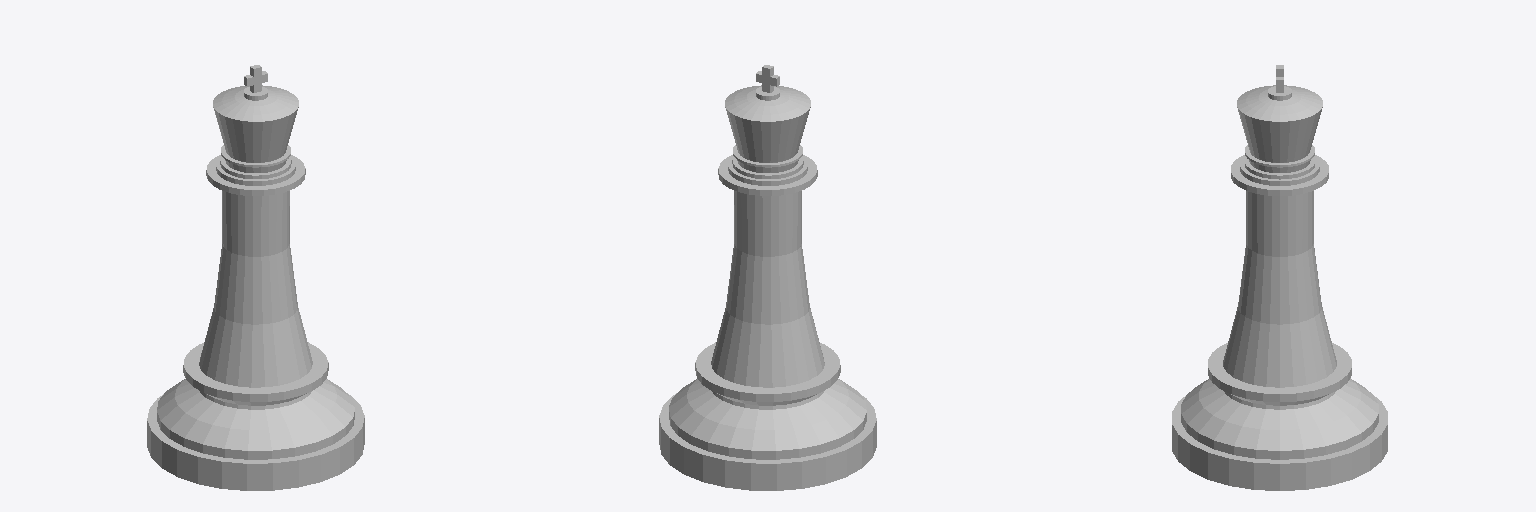
The model's file is king_black.obj.
3 views of the same model, side by side, from view 1: azimuth 30°, elevation 25°; view 2: azimuth 150°, elevation 25°; view 3: azimuth 270°, elevation 25° (orthographic).
Parts seen in each view (by area): view 1: king_black_uploads_files_[number redacted]_Chess+Set.002; view 2: king_black_uploads_files_[number redacted]_Chess+Set.002; view 3: king_black_uploads_files_[number redacted]_Chess+Set.002.
Part boxes in pixels (bbox=[...]): king_black_uploads_files_[number redacted]_Chess+Set.002: bbox=[147, 65, 364, 490]; king_black_uploads_files_[number redacted]_Chess+Set.002: bbox=[659, 65, 876, 490]; king_black_uploads_files_[number redacted]_Chess+Set.002: bbox=[1172, 65, 1387, 490].
Size of the model in its own units: 5.07 by 9.73 by 5.04.